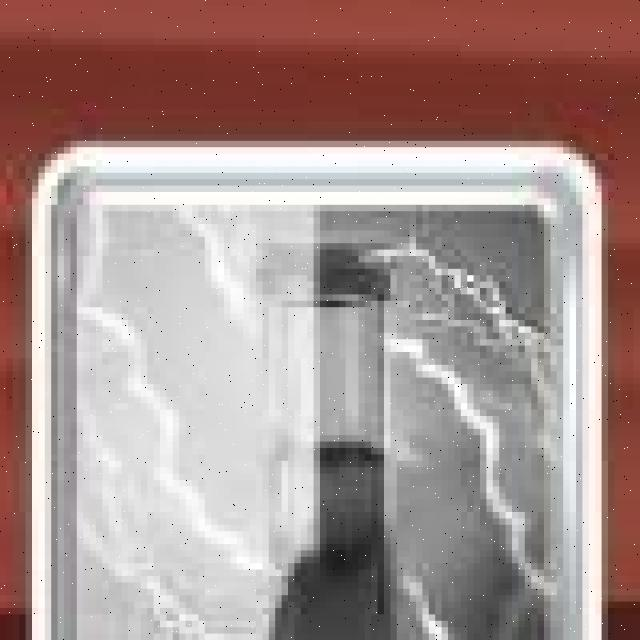Zap: (46, 150, 602, 640)
